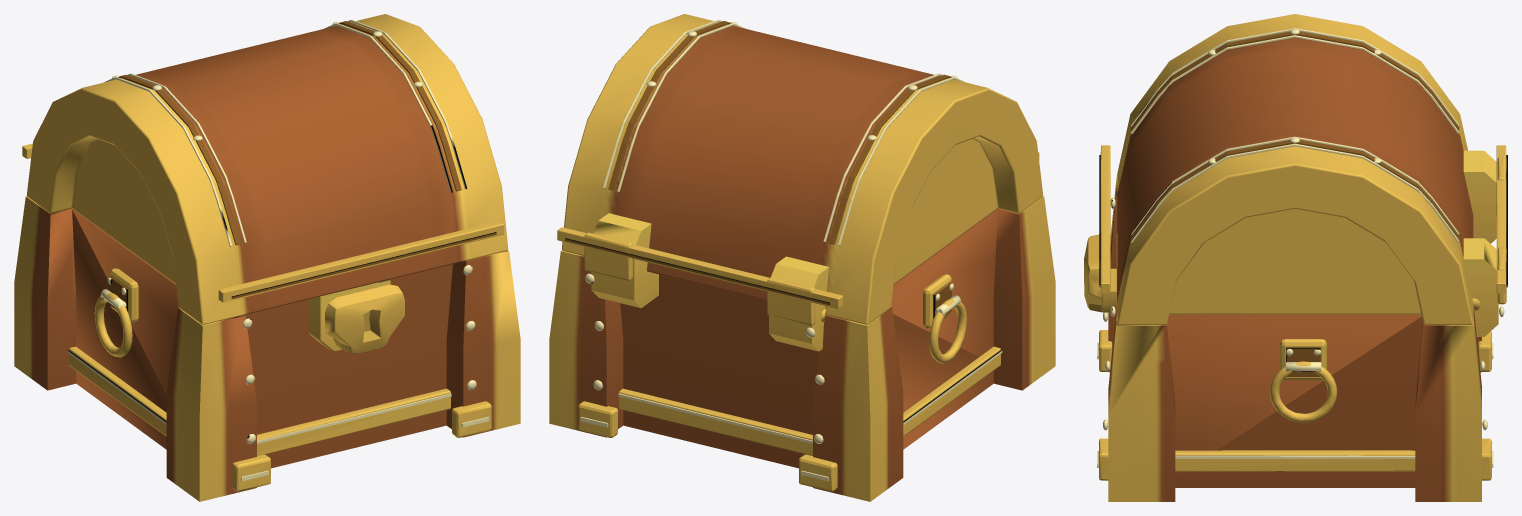
The model's file is sunward.glb.
3 views of the same model, side by side, from view 1: azimuth 30°, elevation 25°; view 2: azimuth 150°, elevation 25°; view 3: azimuth 270°, elevation 25° (orthographic).
Parts seen in each view (by area): view 1: LidShell, Body; view 2: Body, LidShell; view 3: LidShell, Body.
Part boxes in pixels (x1,y1,x2,y2): LidShell: [26, 14, 508, 351]; Body: [14, 143, 520, 501]; Body: [549, 151, 1055, 501]; LidShell: [561, 14, 1043, 324]; LidShell: [1116, 14, 1473, 324]; Body: [1084, 145, 1507, 501].
Bounding box in the file's own units: 2 × 2 × 2.27.
Materials: 2 (2 with a texture image).
